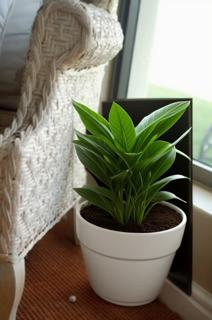chair: (1, 2, 129, 320)
pottedplant: (72, 98, 192, 307)
